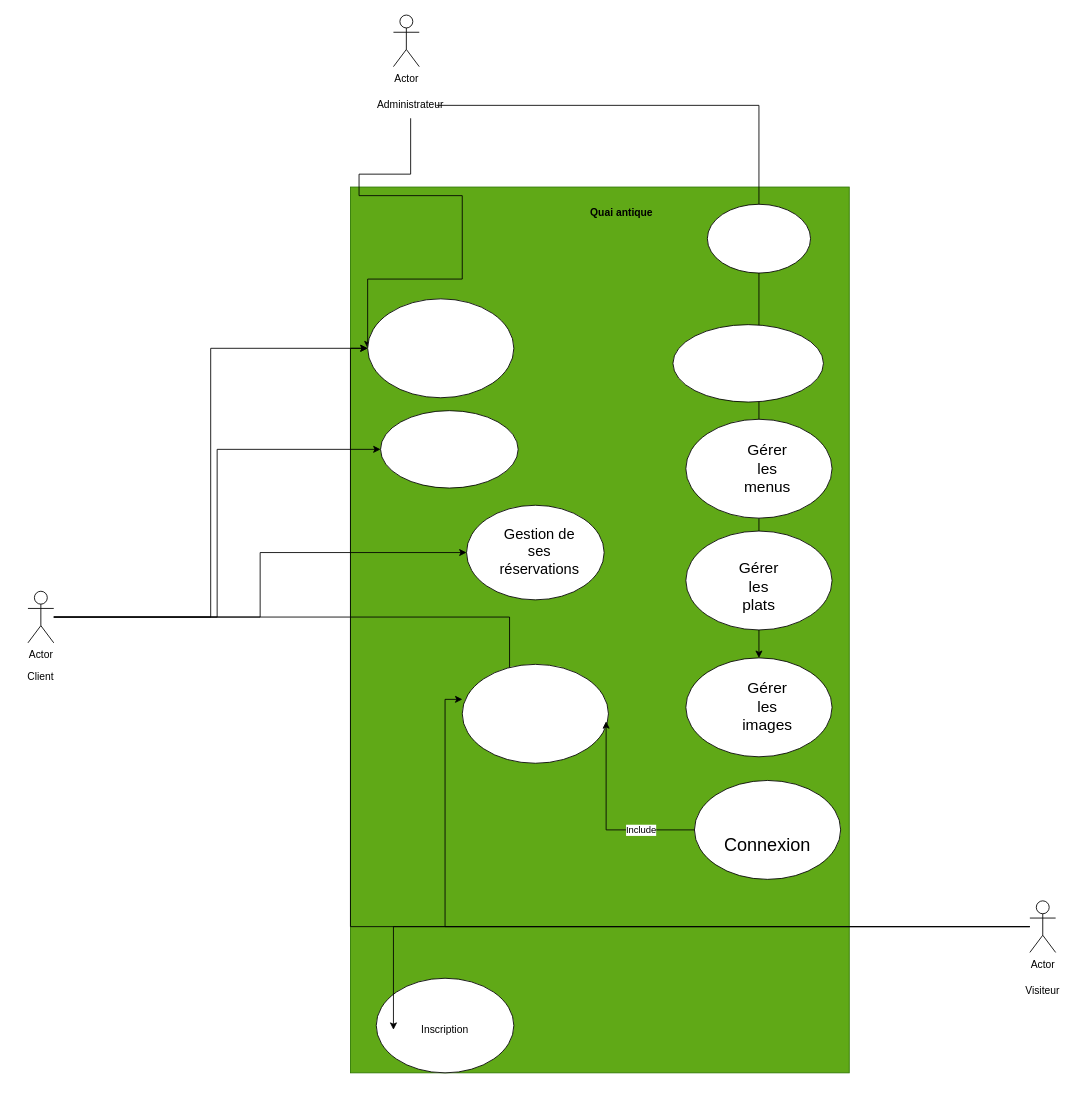
The diagram is 1083 pixels wide and 1105 high, and some of its shapes have lost their labels. Each missing label, with the centre of its shape:
Afficher la carte: the point at 440,348
Gérer les catégories: the point at 758,238
Gérer les informations du restaurant: the point at 747,363
Modifier ses données personelles: the point at 449,449
Réserver une table: the point at 534,713
